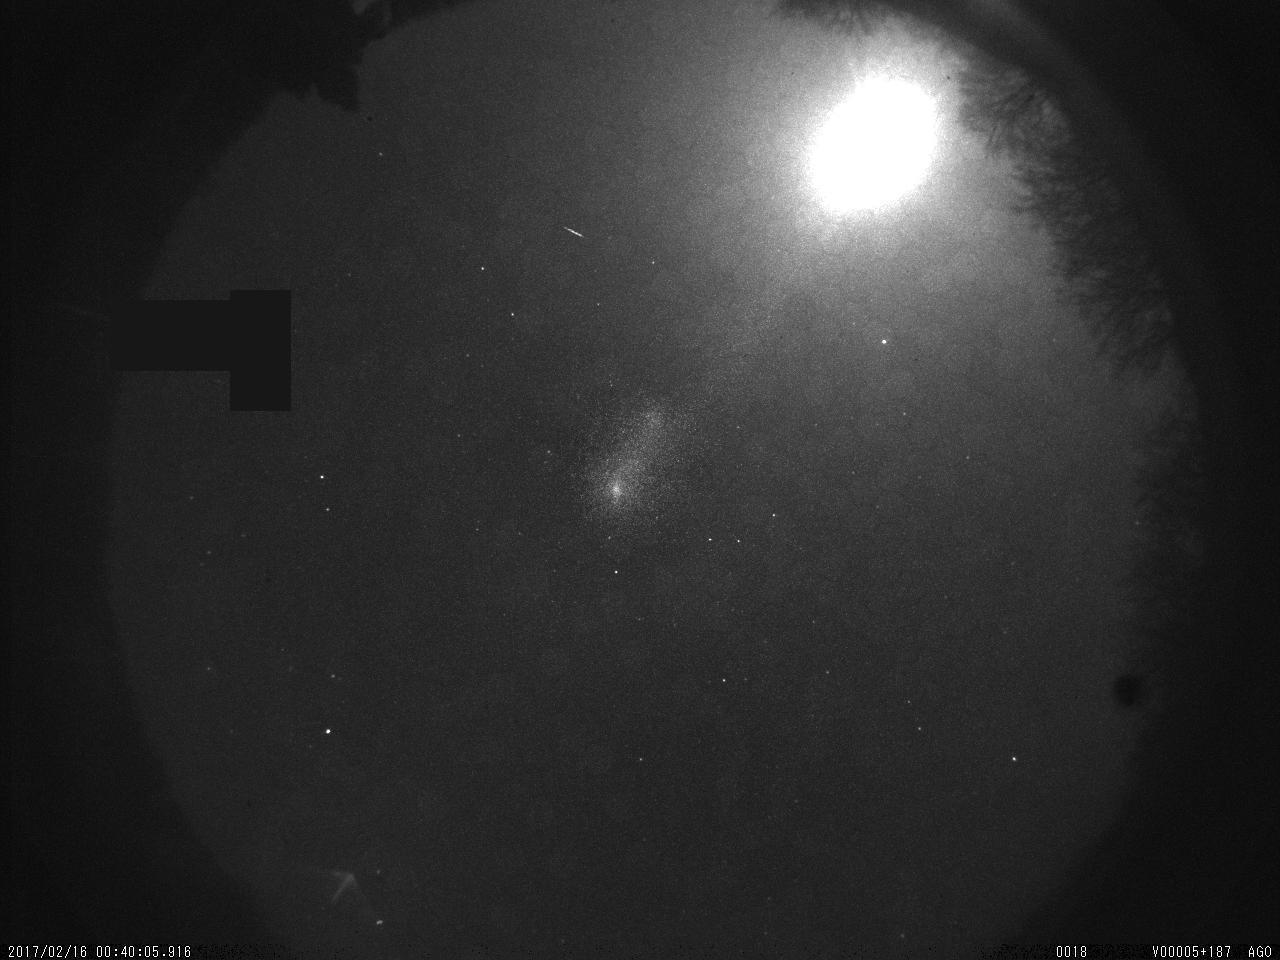meteor: (552, 212, 593, 250)
